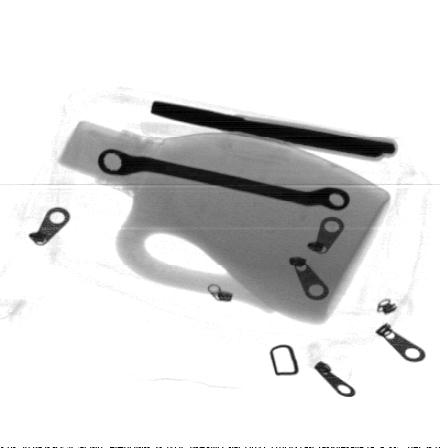Pliers: (148, 101, 399, 158)
Wrench: (97, 149, 352, 210)
